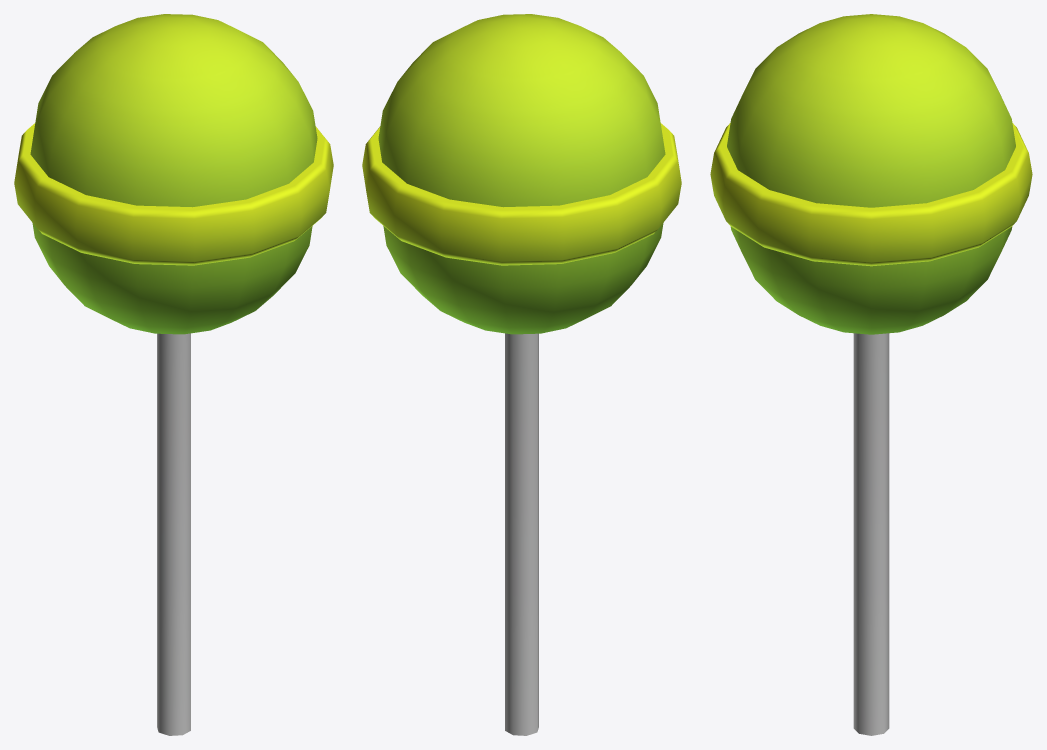
The model's file is lollipop_028.glb.
3 renders of one model, left to right at view 1: azimuth 30°, elevation 25°; view 2: azimuth 150°, elevation 25°; view 3: azimuth 270°, elevation 25°, orthographic.
Parts seen in each view (by area): view 1: lollipop_028; view 2: lollipop_028; view 3: lollipop_028.
Part boxes in pixels (<box>): lollipop_028: <box>14,14,333,735</box>; lollipop_028: <box>362,14,681,735</box>; lollipop_028: <box>710,14,1032,735</box>.
Bounding box in the file's own units: 2.64 × 6.34 × 2.64.
1 material, 1 textured.
